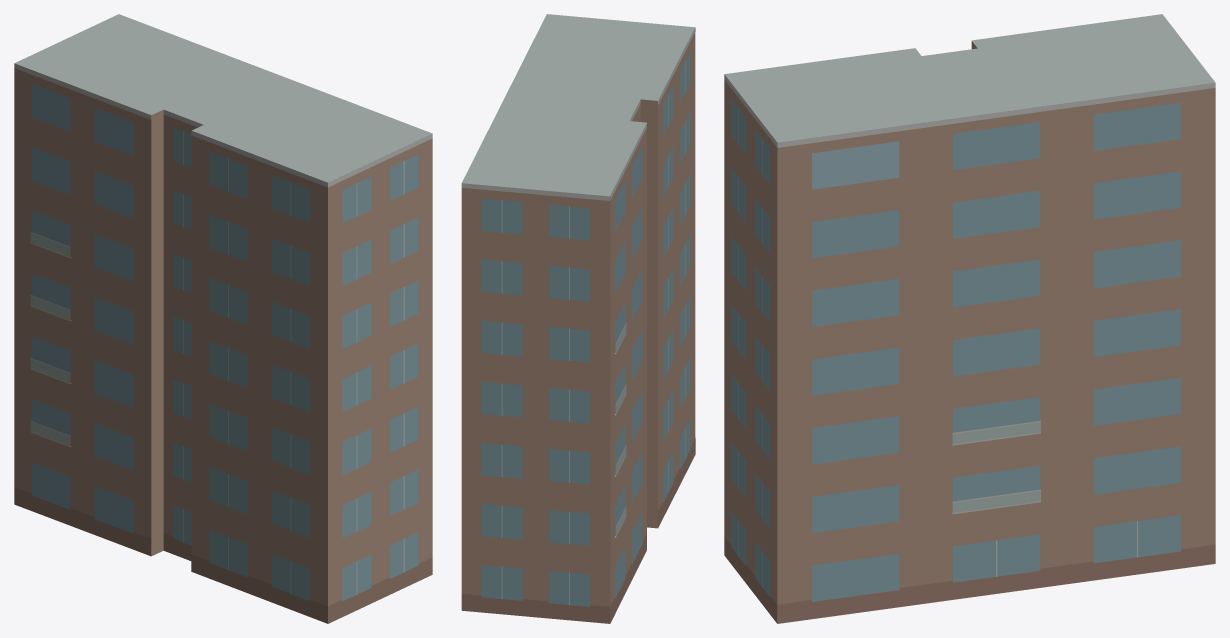
File: survey-upis-32569794.glb
The picture shows the model from 3 angles, left to right: view 1: azimuth 30°, elevation 25°; view 2: azimuth 150°, elevation 25°; view 3: azimuth 270°, elevation 25°; orthographic projection. The views are drawn at different scales.
Parts seen in each view (by area): view 1: survey-upis-32569794.tmp; view 2: survey-upis-32569794.tmp; view 3: survey-upis-32569794.tmp.
Boxes of the visible parts, bbox=[...] form: survey-upis-32569794.tmp: bbox=[14, 14, 432, 623]; survey-upis-32569794.tmp: bbox=[461, 14, 695, 623]; survey-upis-32569794.tmp: bbox=[724, 14, 1215, 623].
Bounding box in the file's own units: 12.95 × 22.55 × 20.88.
